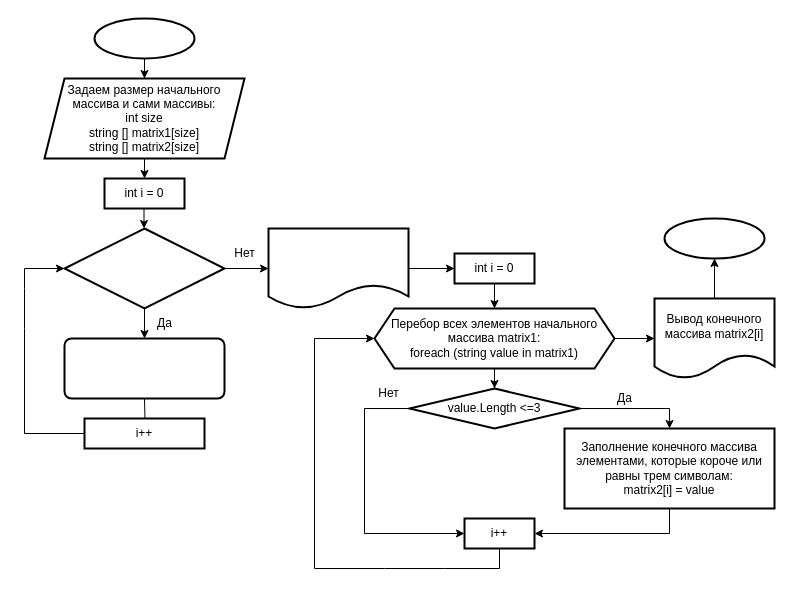
This 793x594 diagram has some shape labels left out. The shapes that lost their labels are listed below. From the top down, each one's centre as x and y in pixels, then its label:
(x=144, y=38): Начало
(x=714, y=238): Конец
(x=144, y=268): i <= size - 1
(x=338, y=268): Вывод начального массива matrix1[i]
(x=144, y=368): Заполнение начального массива matrix1[i]
